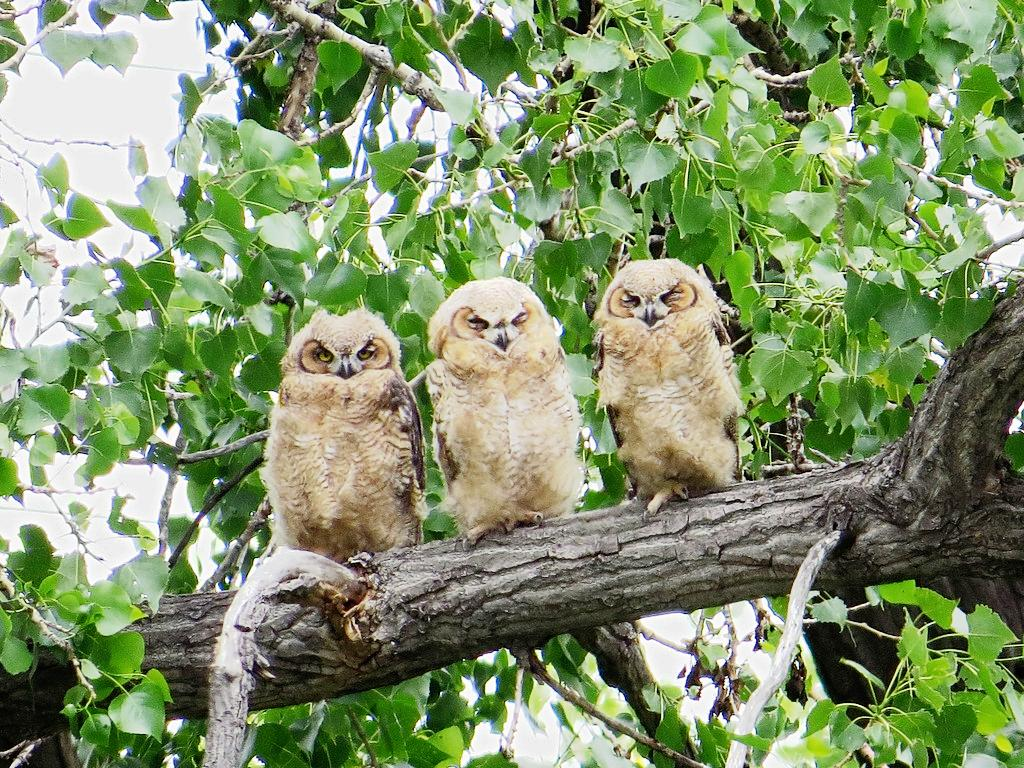Owl: (428, 278, 592, 546), (256, 308, 422, 552), (589, 256, 749, 508)
